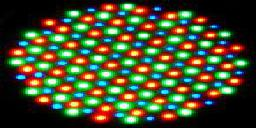LED: (5, 2, 251, 122)
